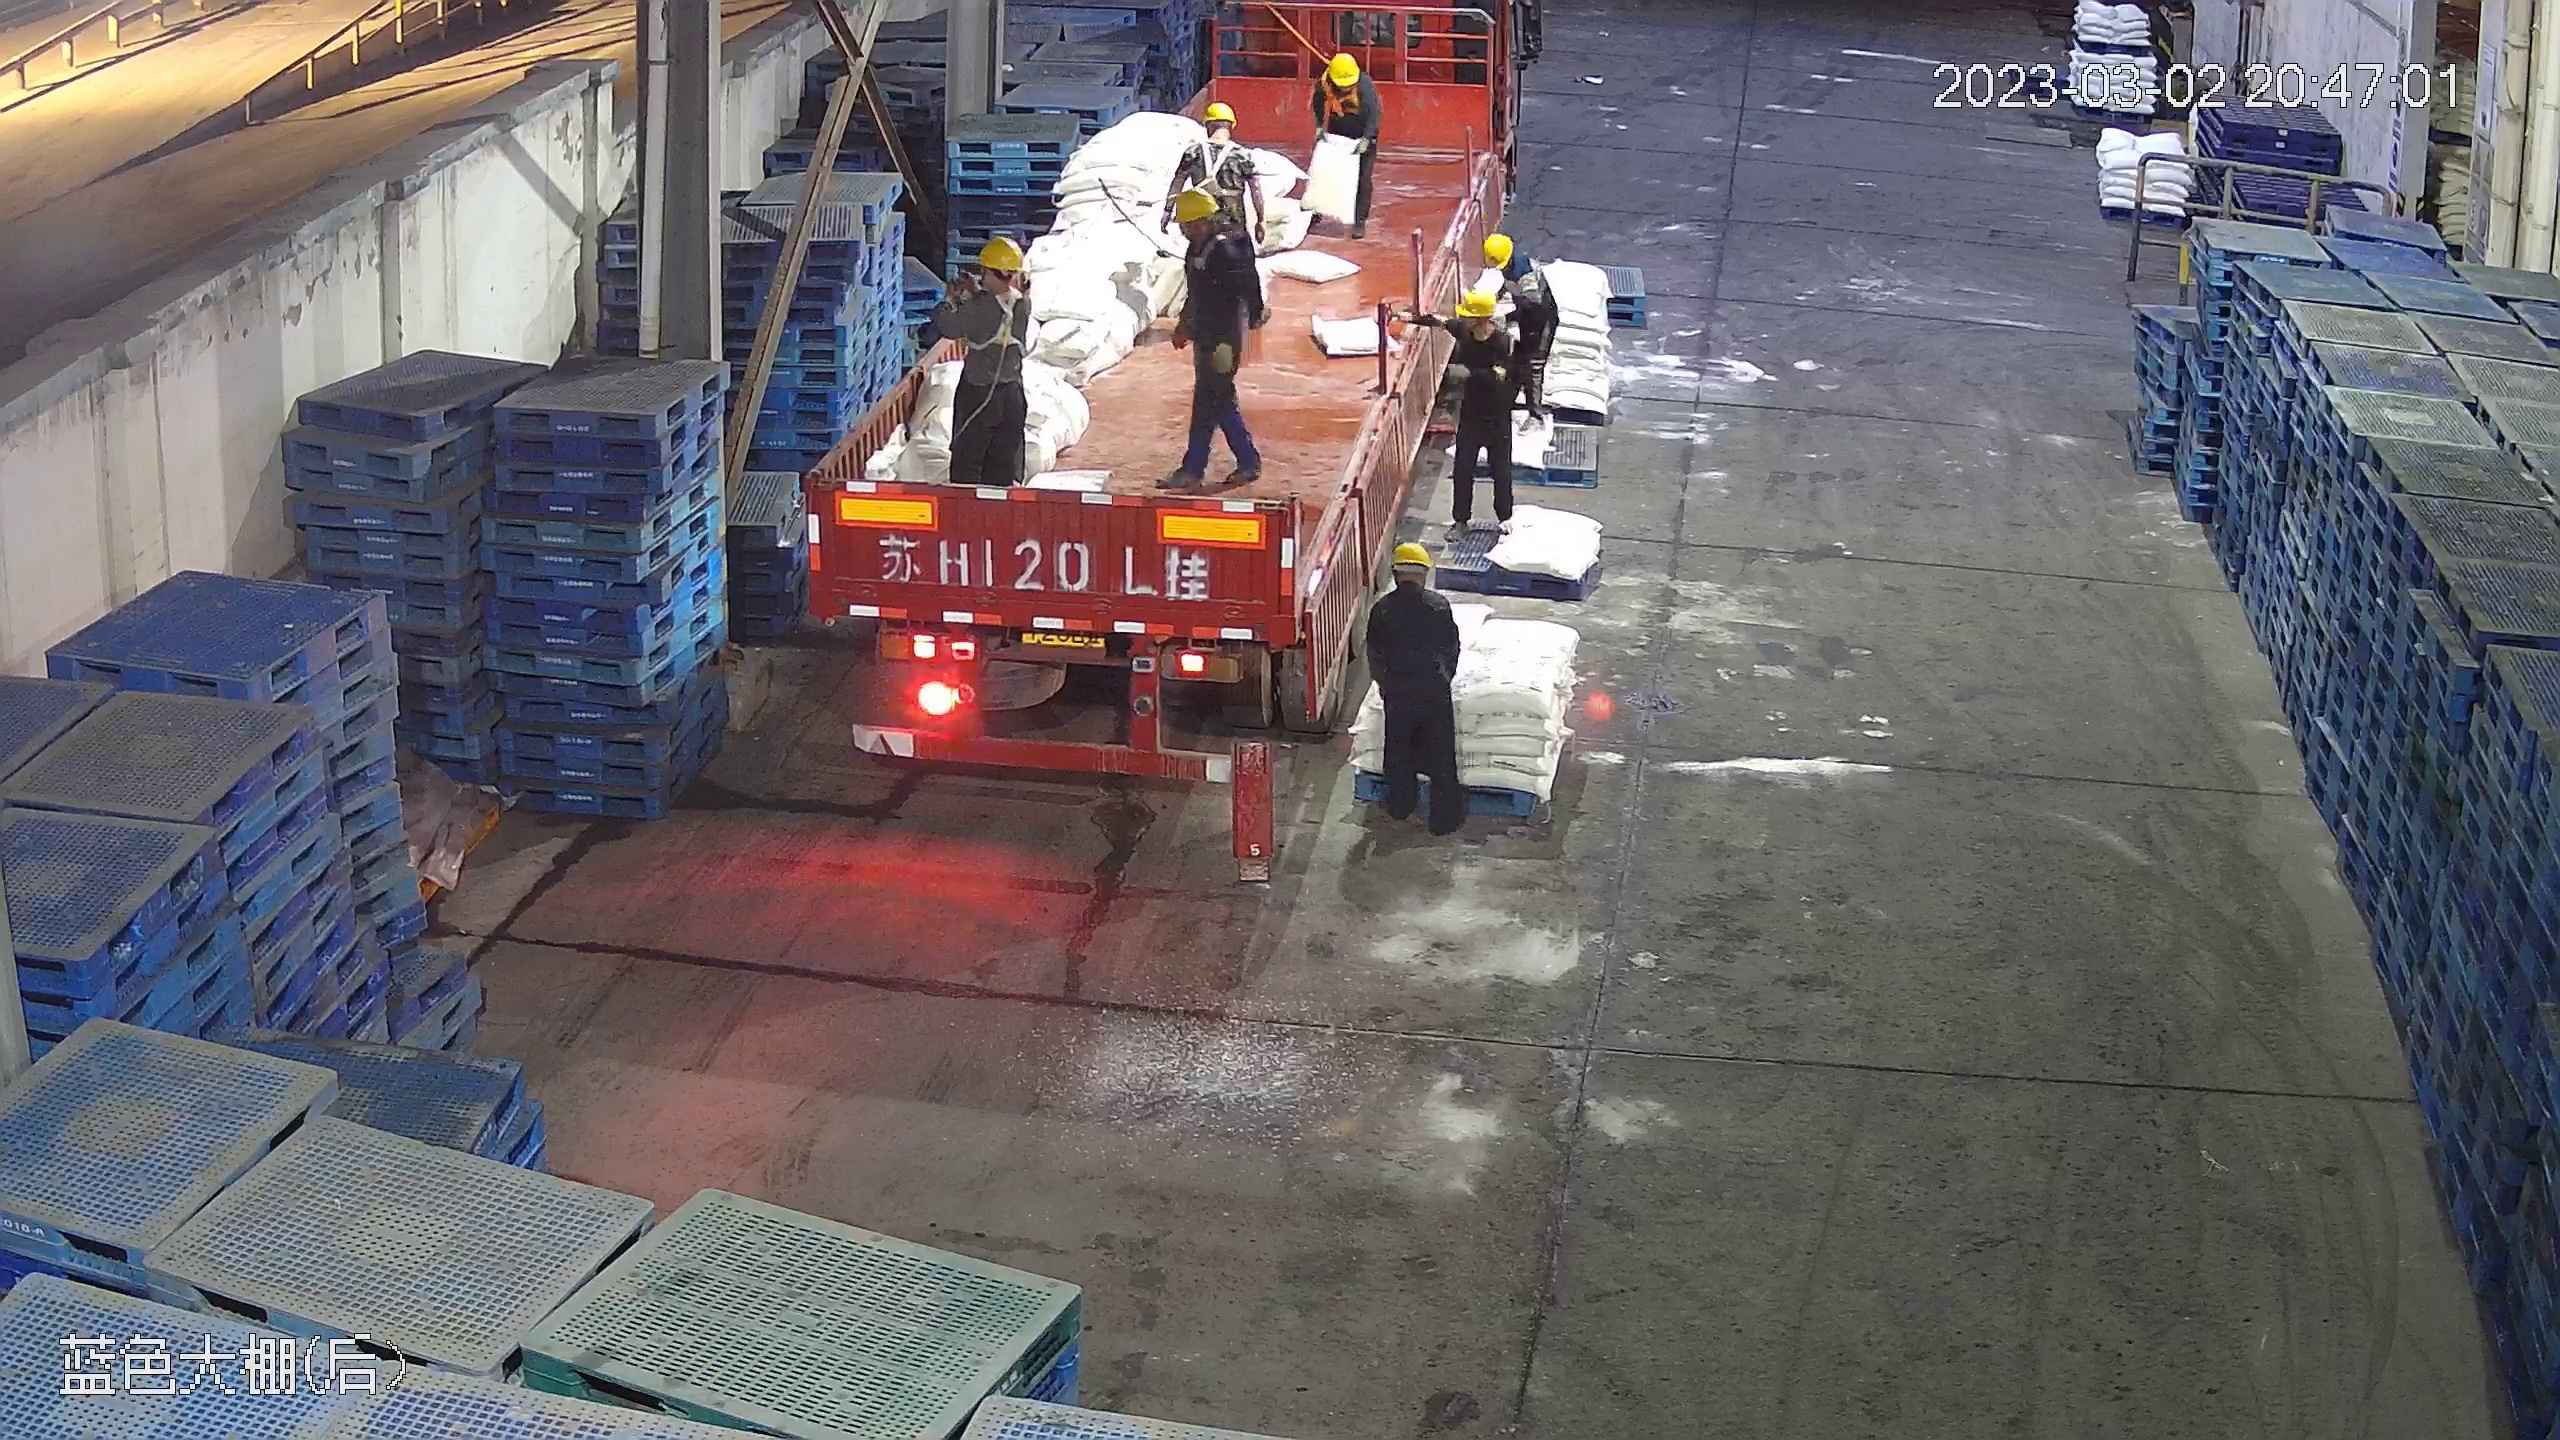belt: (962, 282, 1033, 356), (1185, 137, 1246, 198), (1313, 58, 1363, 123), (1182, 234, 1225, 271)
head: (1368, 538, 1457, 633), (950, 234, 1034, 327), (1172, 184, 1255, 278), (1178, 97, 1262, 174), (1446, 288, 1516, 370), (1478, 230, 1554, 305), (1309, 49, 1376, 110)
helmet: (972, 234, 1026, 273), (1171, 184, 1220, 223), (1321, 50, 1364, 92), (1451, 284, 1498, 319), (1388, 540, 1435, 570), (1478, 231, 1513, 266), (1198, 98, 1236, 126)
people: (907, 233, 1034, 489), (1363, 534, 1469, 836), (1161, 181, 1263, 490), (1440, 284, 1523, 539), (1483, 226, 1561, 431), (1301, 47, 1382, 231)
truck: (775, 32, 1519, 778)
